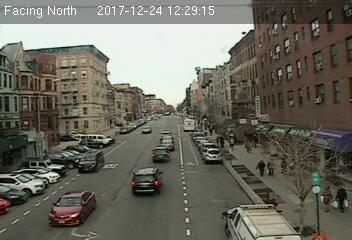car: (48, 190, 97, 229), (129, 167, 164, 195), (77, 149, 106, 173), (150, 146, 170, 162), (203, 148, 224, 162), (141, 124, 151, 133)
pedestrian: (331, 184, 348, 211), (321, 185, 334, 216), (266, 156, 274, 176), (258, 158, 266, 177)
truck: (226, 201, 302, 240)
